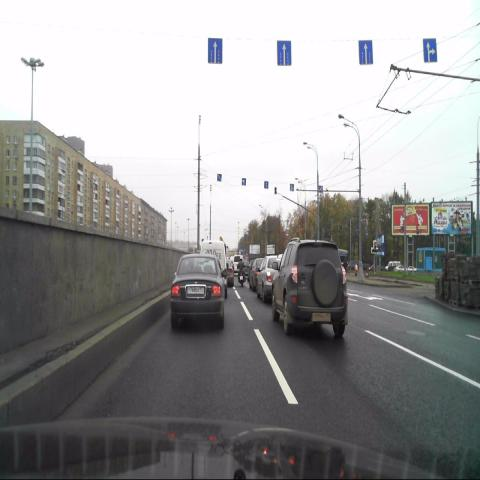5_15_2: (277, 41, 291, 66)
